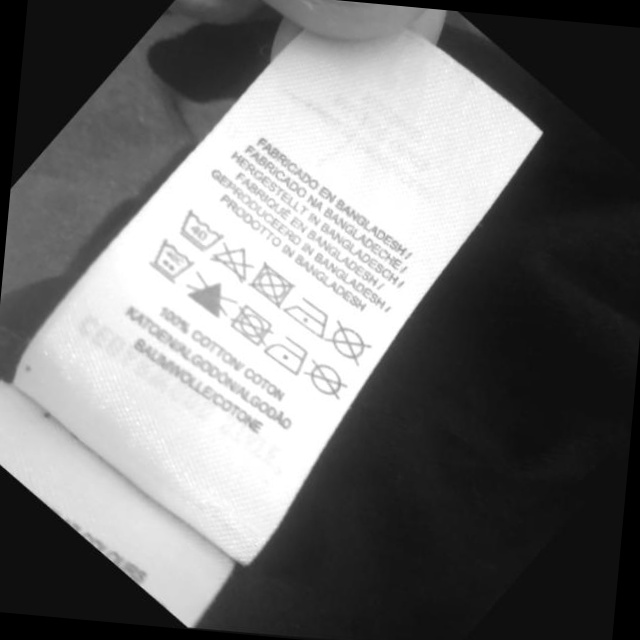40C: (180, 207, 228, 254), (149, 237, 199, 282)
DN_bleach: (184, 272, 240, 321), (209, 243, 254, 282)
DN_dry_clean: (300, 358, 357, 403), (323, 320, 377, 365)
DN_tumble_dry: (249, 261, 298, 310), (232, 302, 279, 349)
iron_low: (281, 295, 335, 337), (264, 332, 312, 378)
